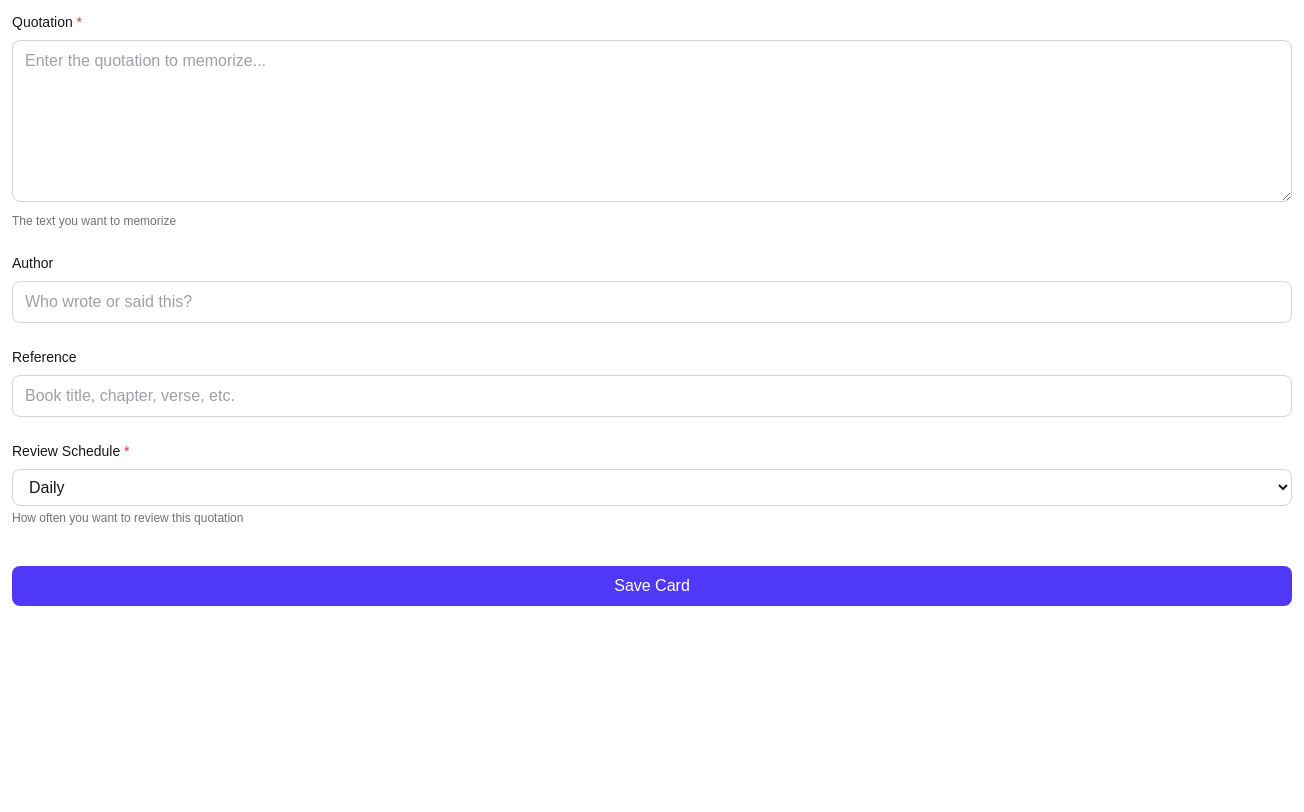
Test case: CardForm › create mode › should show error when submission fails
Type "Test quotation" into the text box labelled "Quotation *". click: (652, 121)
box: 12,40 -> 1292,202
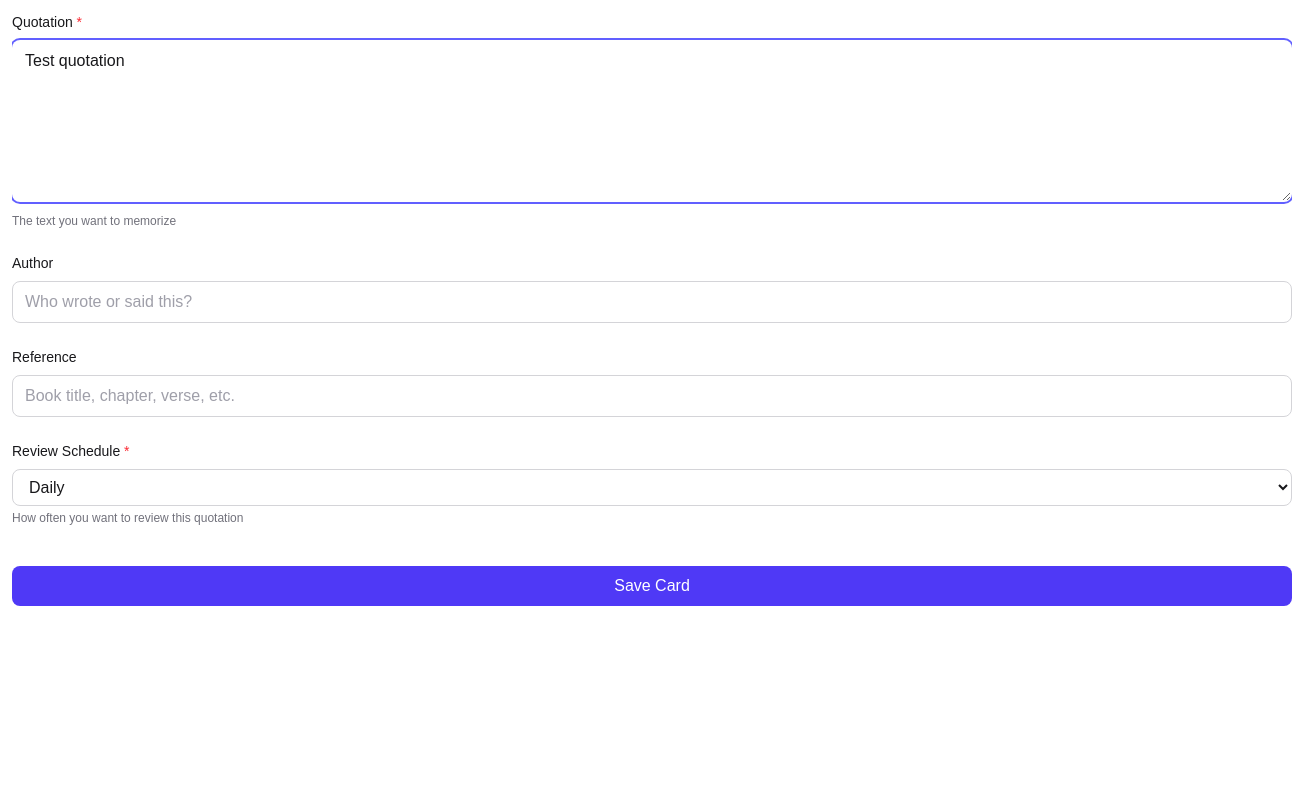
Click the button "Save Card". click: (652, 586)
box: 12,566 -> 1292,606
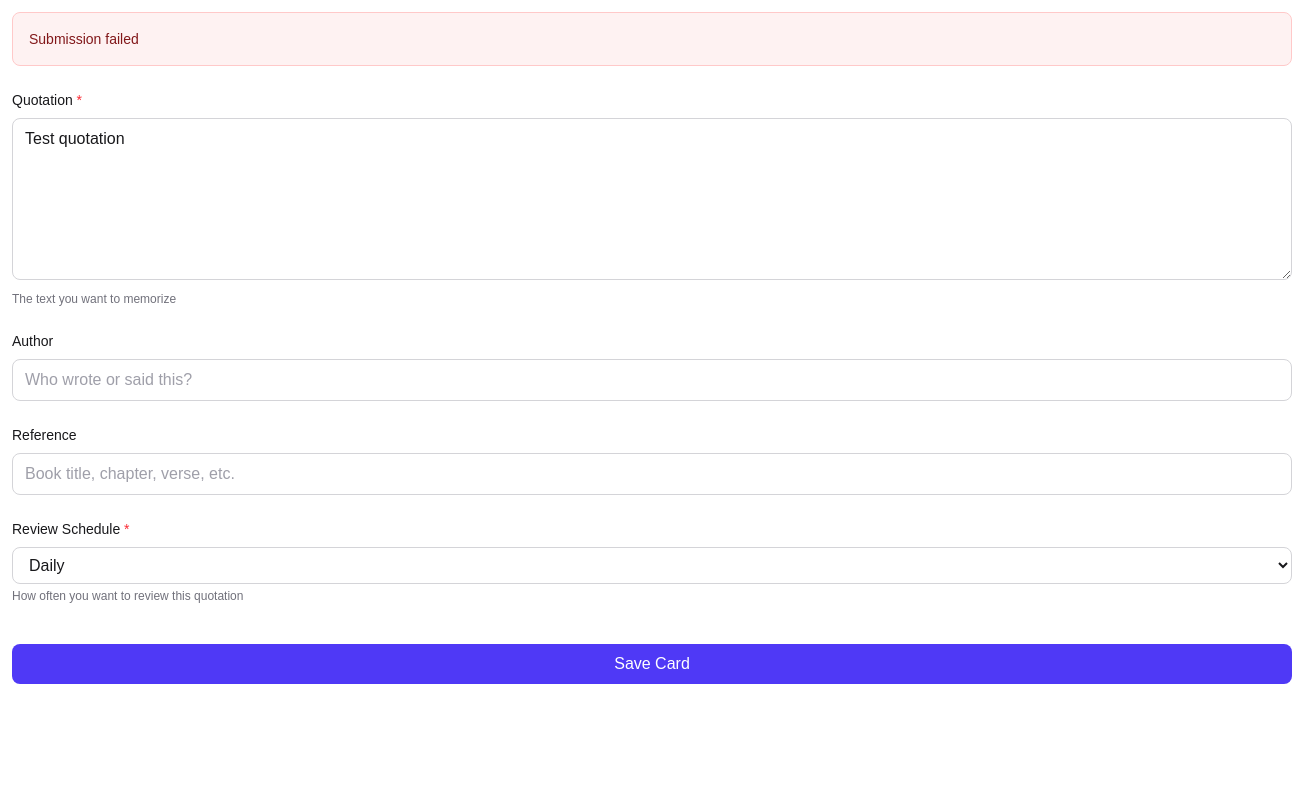
Now the text "Submission failed" is shown, box 29,31 -> 139,47
